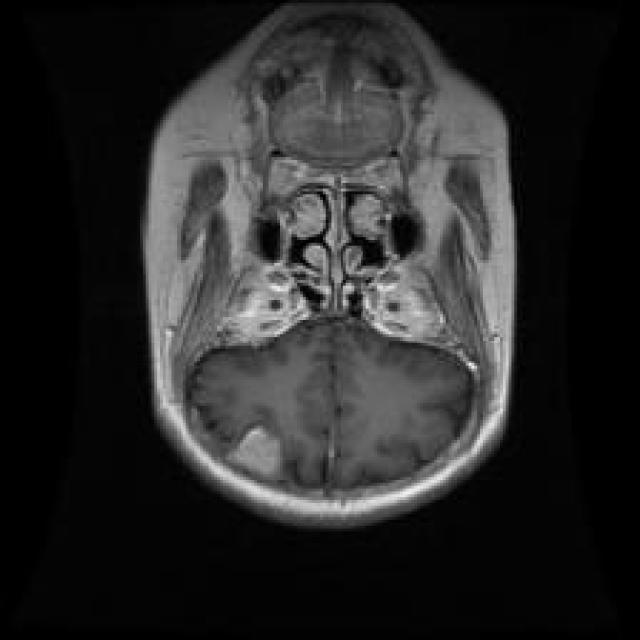meningioma_tumor: (219, 416, 303, 493)
